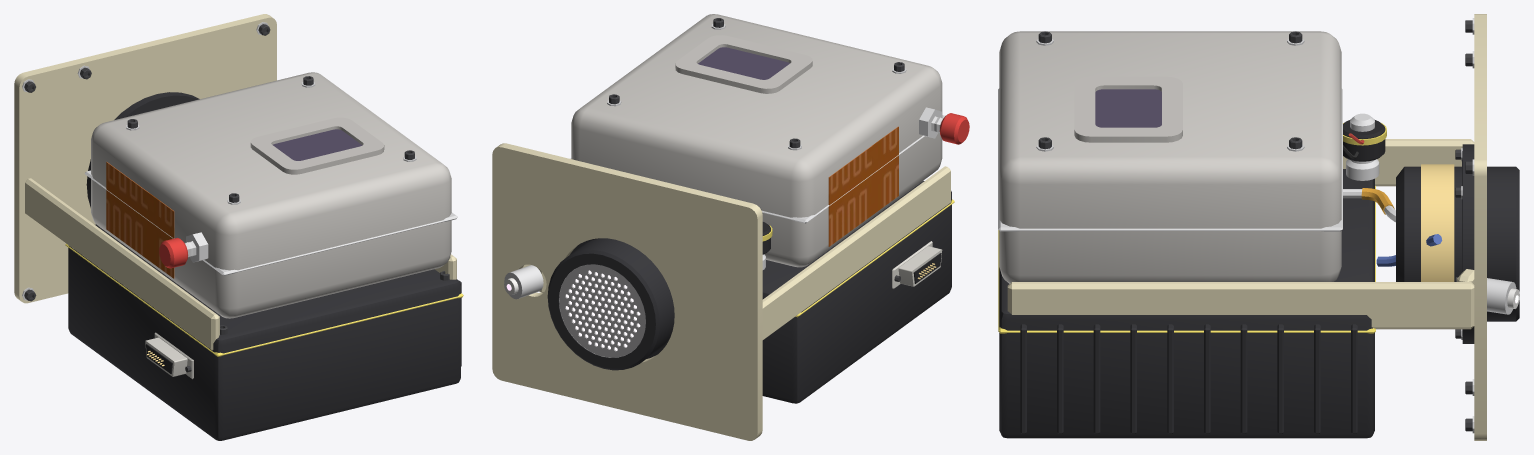
Rendered from ion_engine.glb.
The picture shows the model from 3 angles, left to right: view 1: azimuth 30°, elevation 25°; view 2: azimuth 150°, elevation 25°; view 3: azimuth 270°, elevation 25°; orthographic projection. The views are drawn at different scales.
Visible parts, largest first — view 1: iodine_tank, ppu, ion_engine, thruster_head; view 2: ion_engine, iodine_tank, ppu, thruster_head, neutralizer; view 3: iodine_tank, ppu, ion_engine, thruster_head, neutralizer.
Boxes of the visible parts, x1,y1,x2,y2 form: iodine_tank: (84, 72, 457, 318); ppu: (65, 224, 463, 440); ion_engine: (14, 14, 456, 350); thruster_head: (86, 92, 199, 207); ion_engine: (492, 143, 950, 440); iodine_tank: (570, 14, 969, 267); ppu: (762, 181, 954, 403); thruster_head: (547, 238, 674, 370); neutralizer: (504, 265, 546, 299); iodine_tank: (998, 31, 1342, 283); ppu: (998, 169, 1375, 438); ion_engine: (1007, 14, 1486, 440); thruster_head: (1396, 144, 1519, 343); neutralizer: (1457, 269, 1519, 314).
Size of the model in its own units: 0.097 by 0.0742 by 0.125.
Materials: 23 (1 with a texture image).
